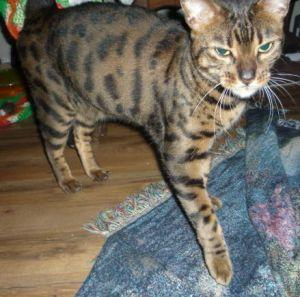bengal: (168, 1, 297, 103)
